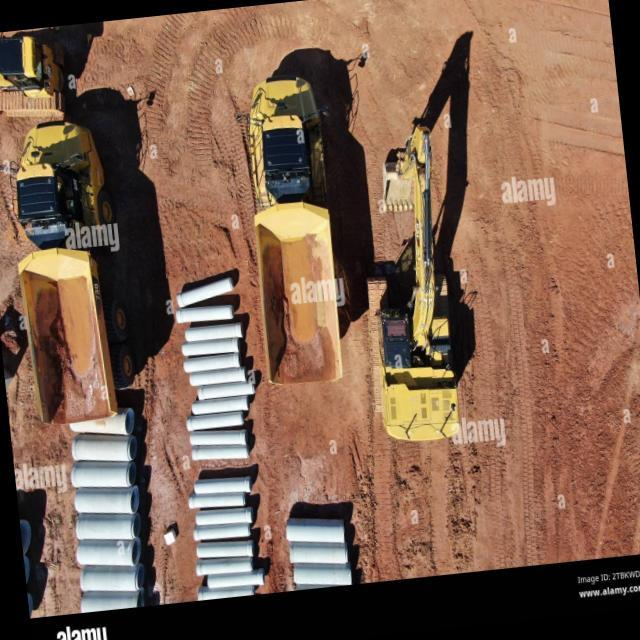excavator: (366, 125, 459, 442)
